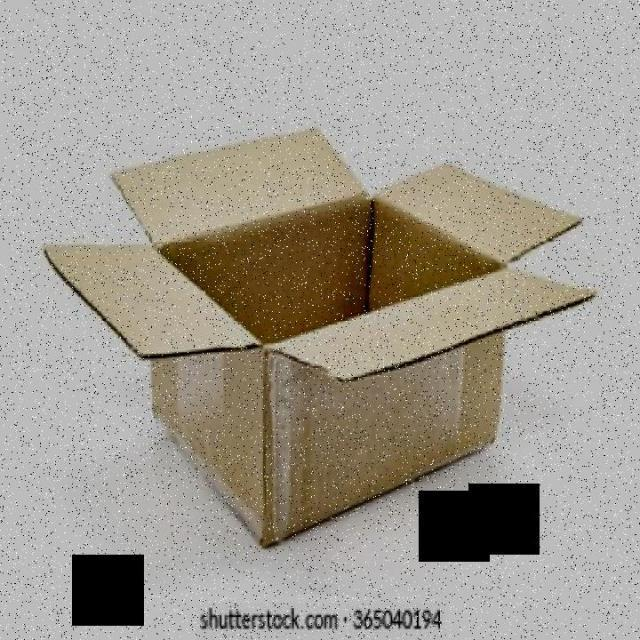box: (39, 116, 598, 560)
